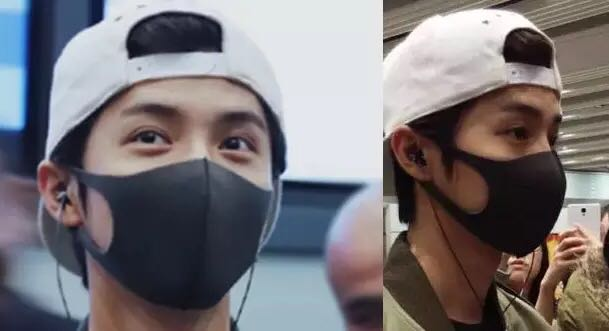face: (503, 235, 544, 287)
face_mask: (74, 75, 281, 305), (452, 66, 569, 255)
